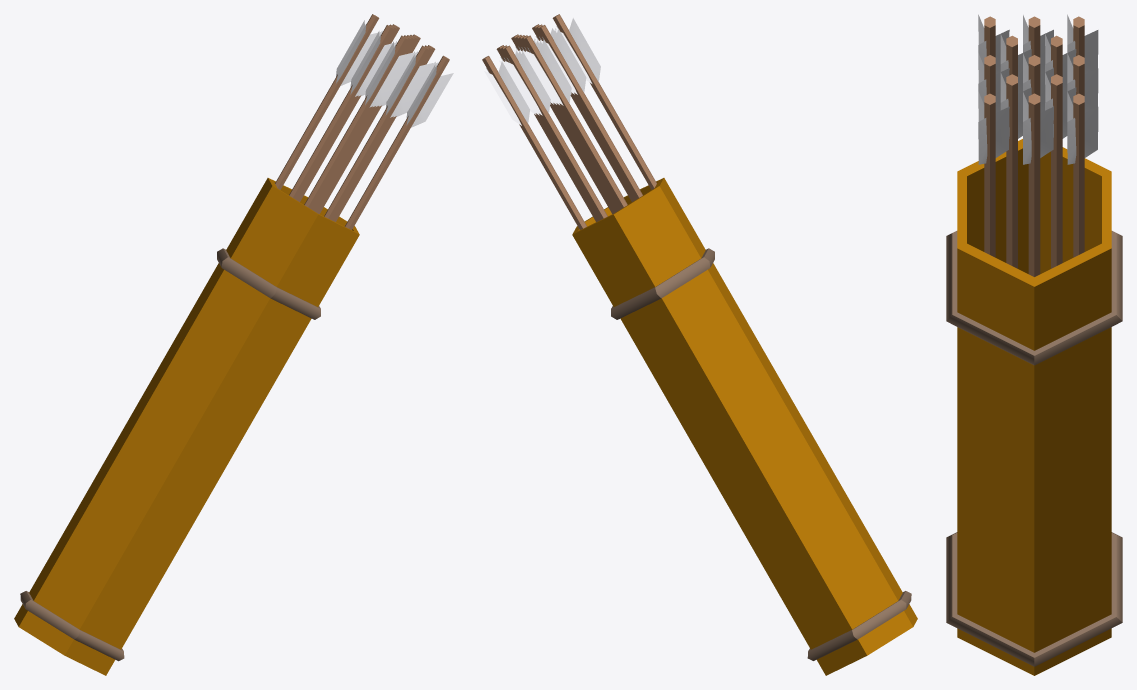
Rendered from ranger_quiver.fbx.
The picture shows the model from 3 angles, left to right: view 1: azimuth 30°, elevation 25°; view 2: azimuth 150°, elevation 25°; view 3: azimuth 270°, elevation 25°; orthographic projection. The views are drawn at different scales.
Visible parts, largest first — view 1: ranger_quiver_and_arrows; view 2: ranger_quiver_and_arrows; view 3: ranger_quiver_and_arrows.
Boxes of the visible parts, left/top/right/bottom form: ranger_quiver_and_arrows: left=14, top=14, right=453, bottom=675; ranger_quiver_and_arrows: left=482, top=14, right=917, bottom=675; ranger_quiver_and_arrows: left=946, top=14, right=1122, bottom=675.
Bounding box in the file's own units: 0.3297 × 0.4328 × 0.0795.
